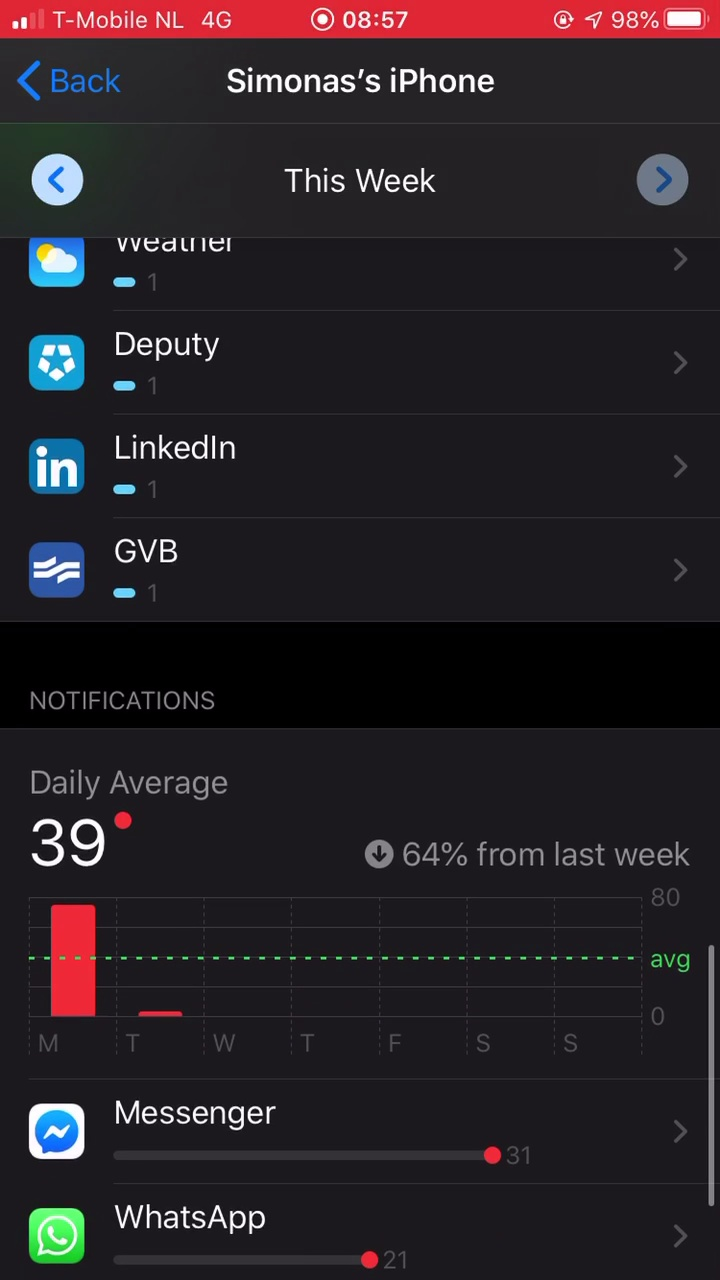not_app: (14, 1077, 546, 1177), (11, 1188, 461, 1278)
not_over: (1, 675, 293, 882)
pick_app: (18, 419, 297, 514), (17, 314, 262, 417), (17, 526, 285, 617)
week: (273, 158, 452, 205)
